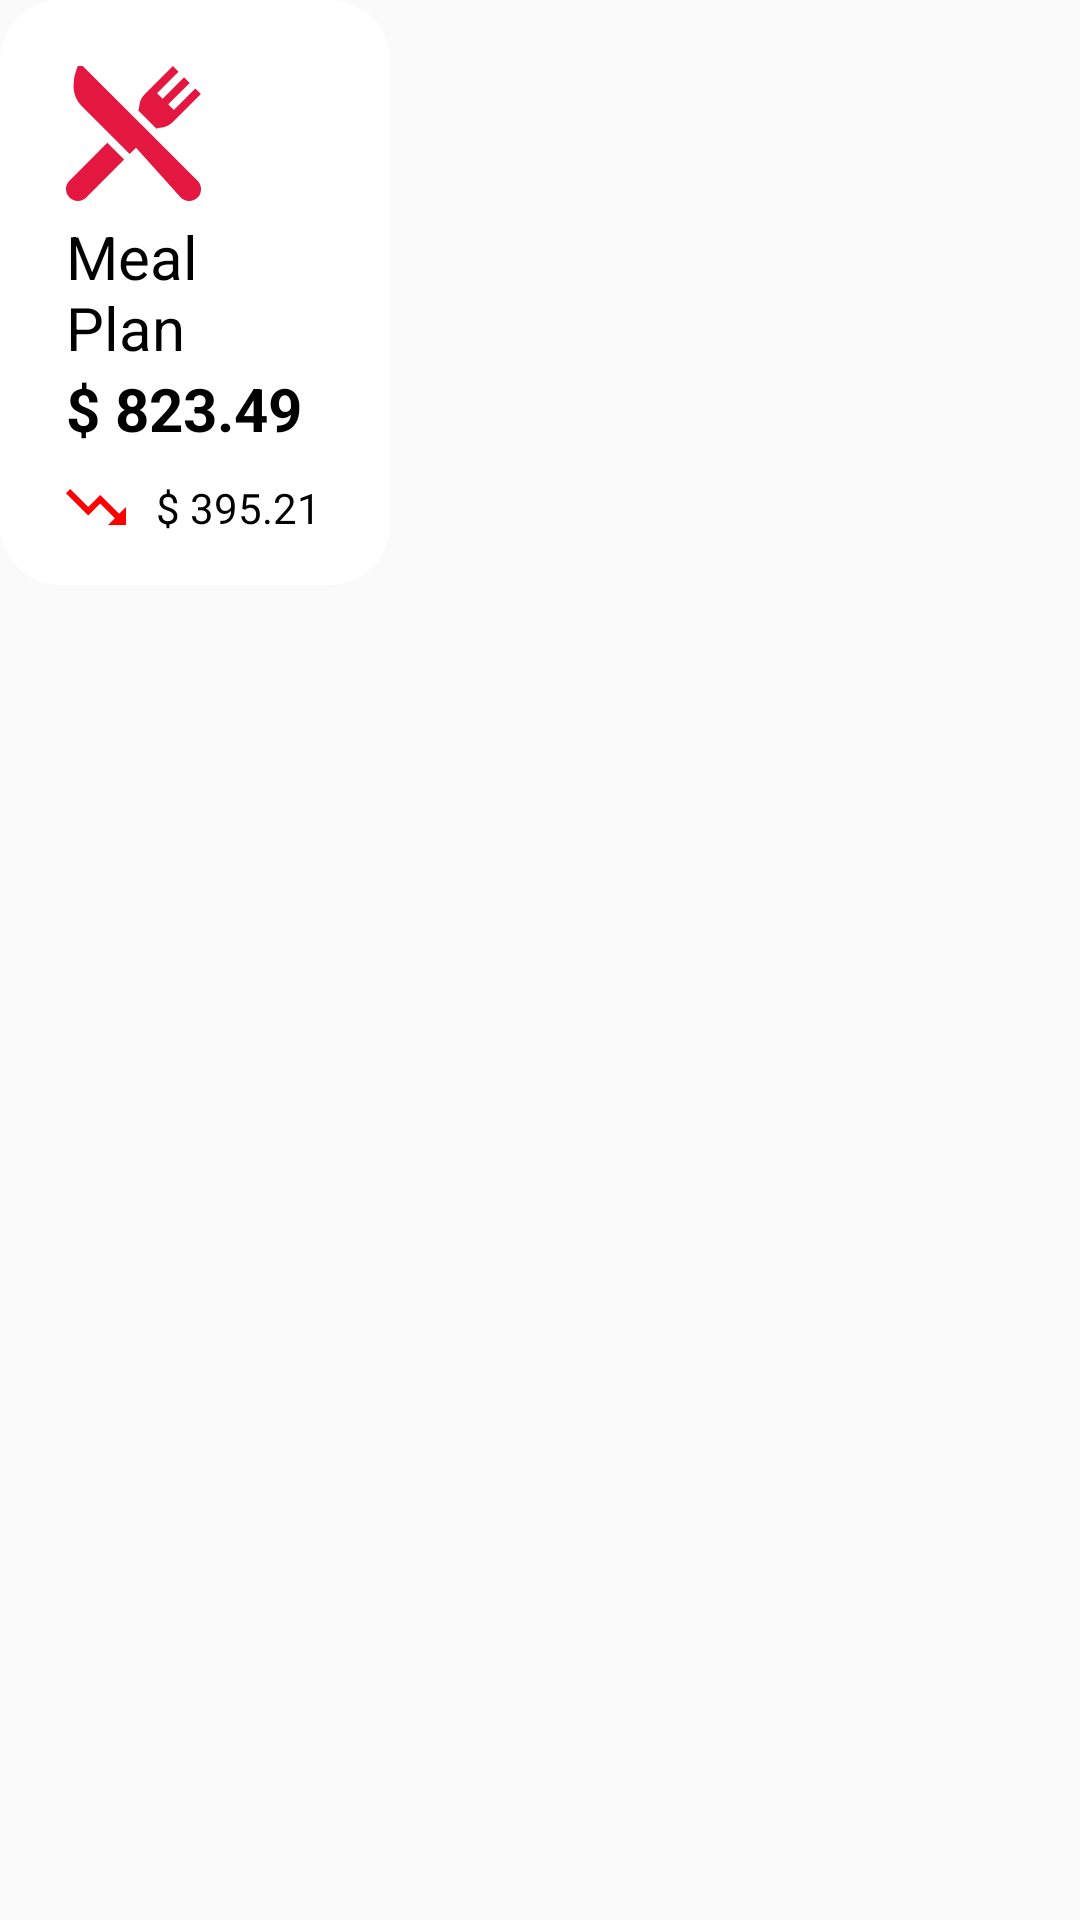

Icon click points for this 1080*1920 phone screenshot, format [x,y]:
trending down: [96,507]
